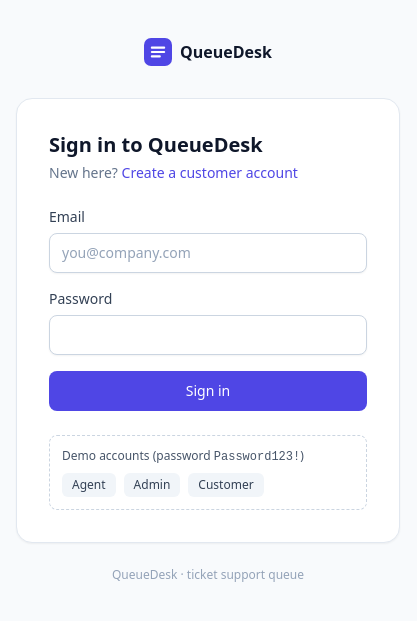
login page › validates required fields before calling the API
Step 1. Click the button "Sign in" → point(208, 390), box [49,370,367,410]
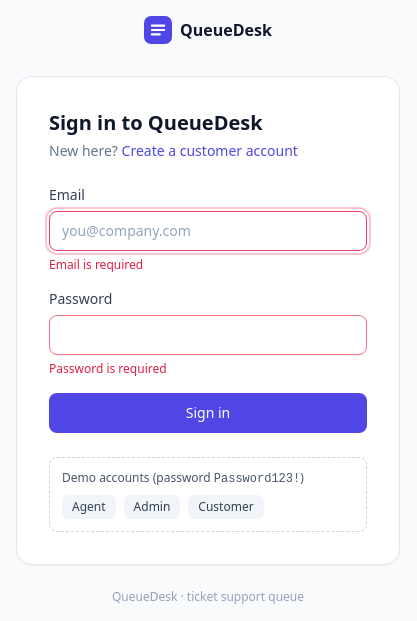
Expected: the text "Email is required" is shown, [49,256,143,272]
Expected: the text "Password is required" is shown, [49,360,167,376]
